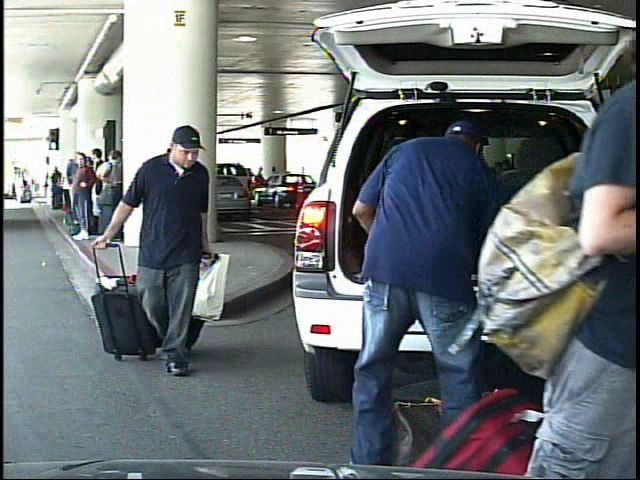person: (314, 106, 501, 476), (92, 120, 231, 387), (14, 172, 24, 203)
